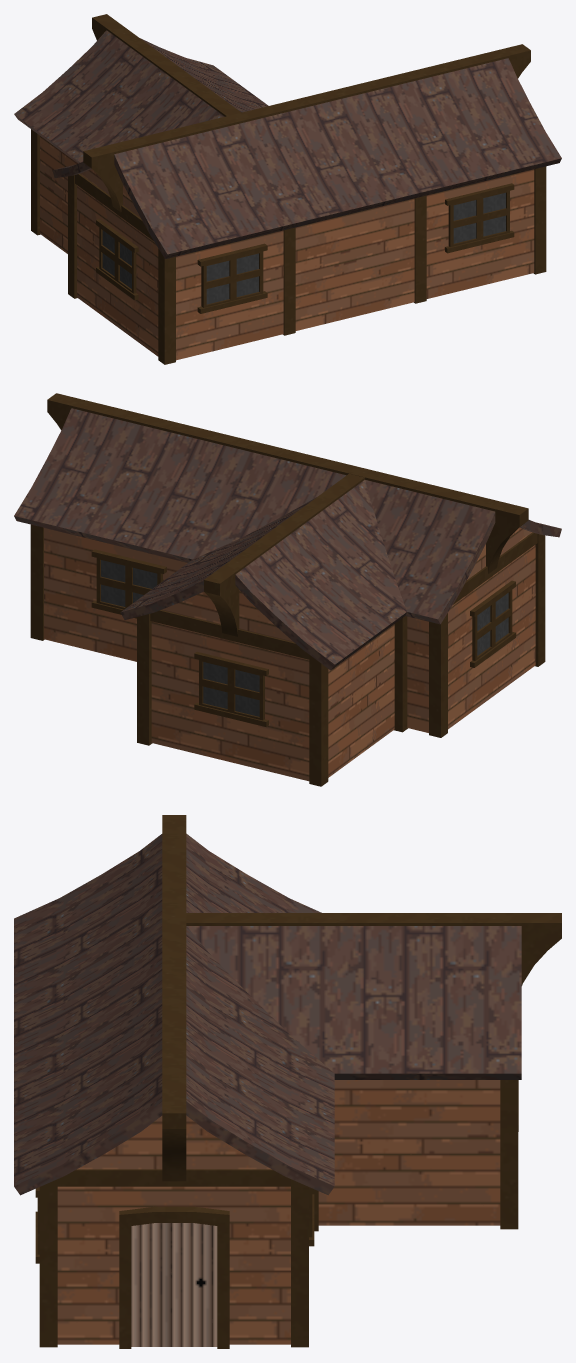
Rendered from L1_Village_house4.fbx.
3 views of the same model, one above another, from view 1: azimuth 30°, elevation 25°; view 2: azimuth 150°, elevation 25°; view 3: azimuth 270°, elevation 25° (orthographic). The views are drawn at different scales.
Visible parts, largest first — view 1: L1_Village_house4; view 2: L1_Village_house4; view 3: L1_Village_house4.
Boxes of the visible parts, <box> form: L1_Village_house4: <box>14,14,561,364</box>; L1_Village_house4: <box>14,393,561,786</box>; L1_Village_house4: <box>14,815,561,1348</box>.
Bounding box in the file's own units: 838 × 332 × 650.
